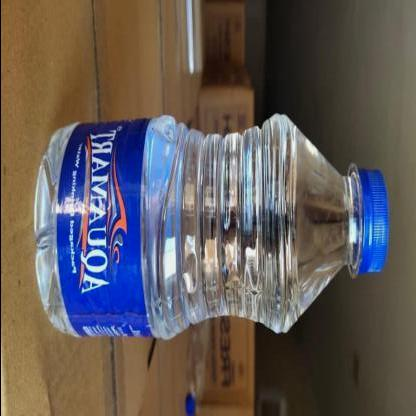bottle: (28, 114, 394, 380)
